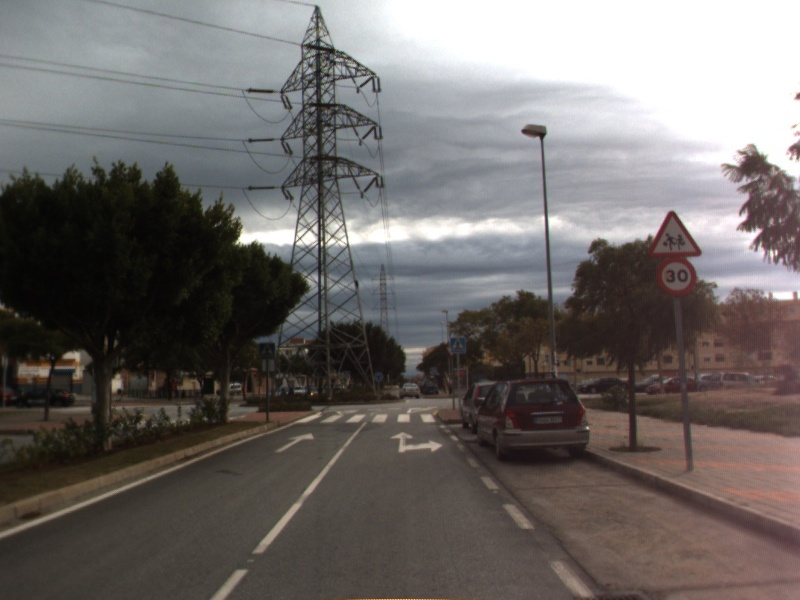STRAIGHT: (272, 431, 316, 455)
STRAIGHT_RIGHT: (388, 429, 445, 454)
